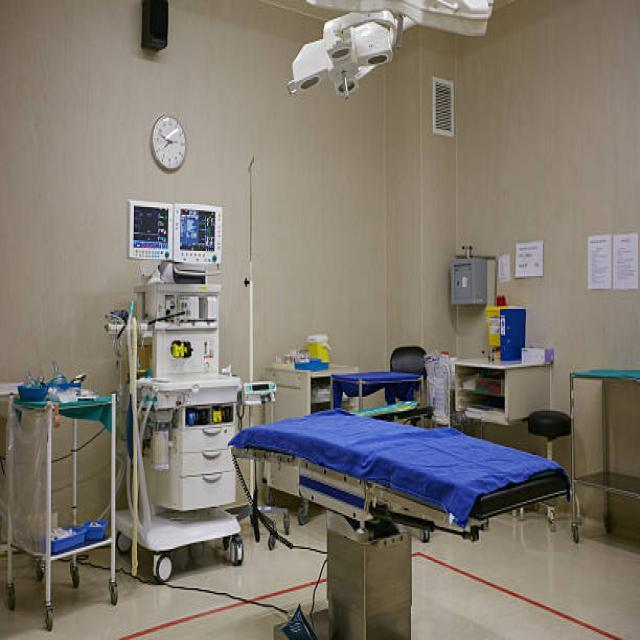Monitor: (180, 183, 228, 276), (128, 175, 176, 263)
Saline Stand: (227, 133, 287, 562)
bed: (230, 389, 584, 640)
stool: (509, 391, 570, 535)
tools_table: (0, 362, 135, 626), (570, 348, 640, 560)
